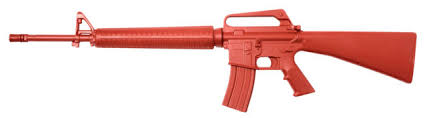long_gun: (8, 9, 419, 118)
